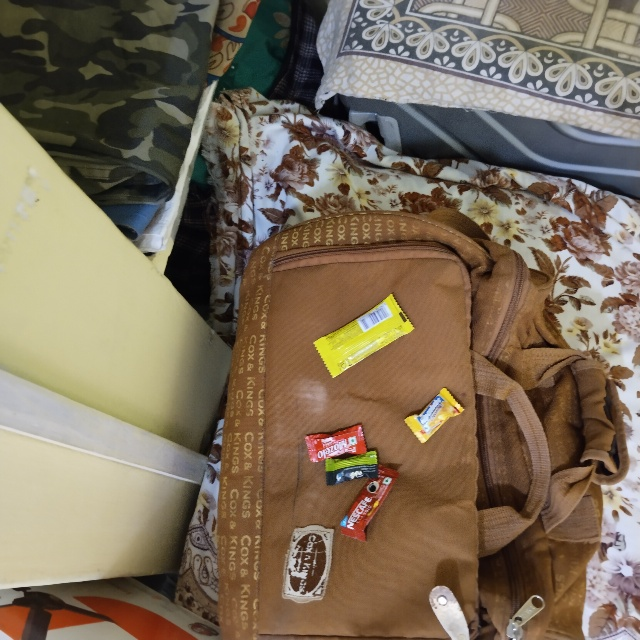Alpenlibe Creamfills: (401, 423, 456, 457)
Mazelo: (303, 432, 366, 465)
Nescafe Coffee: (403, 480, 485, 510)
Orbit: (308, 339, 407, 385)
Pulse: (324, 450, 381, 484)
